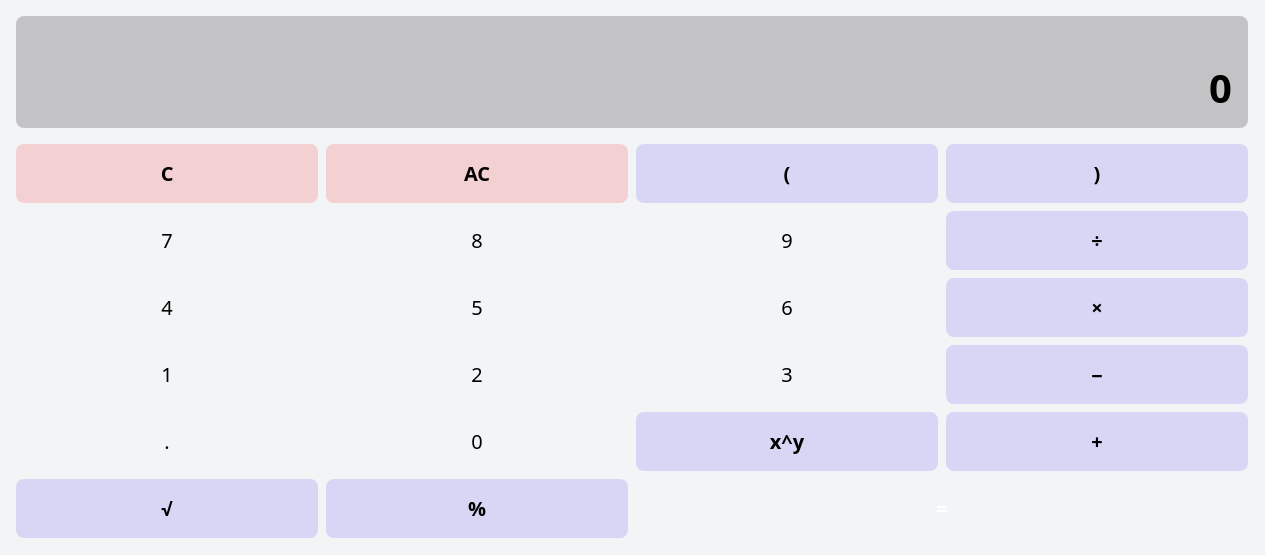
Test: Calculator UI & State › handles percentage button instantly
Click the button "5" at coordinates (477, 308), box [326,278,628,337]
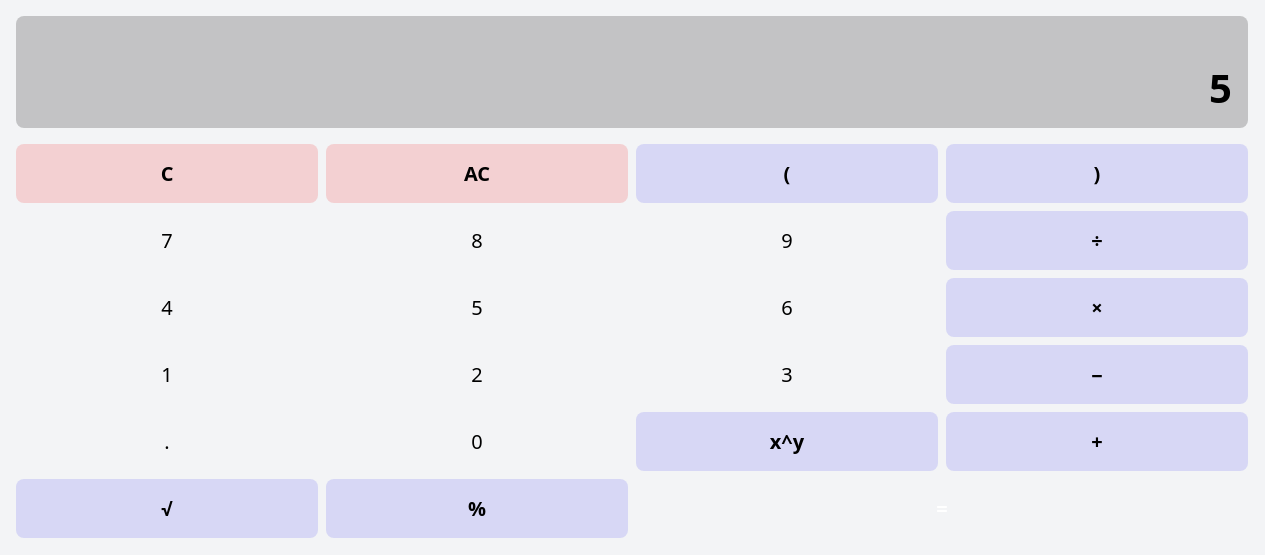
Click the button "0" at coordinates (477, 442), box [326,412,628,471]
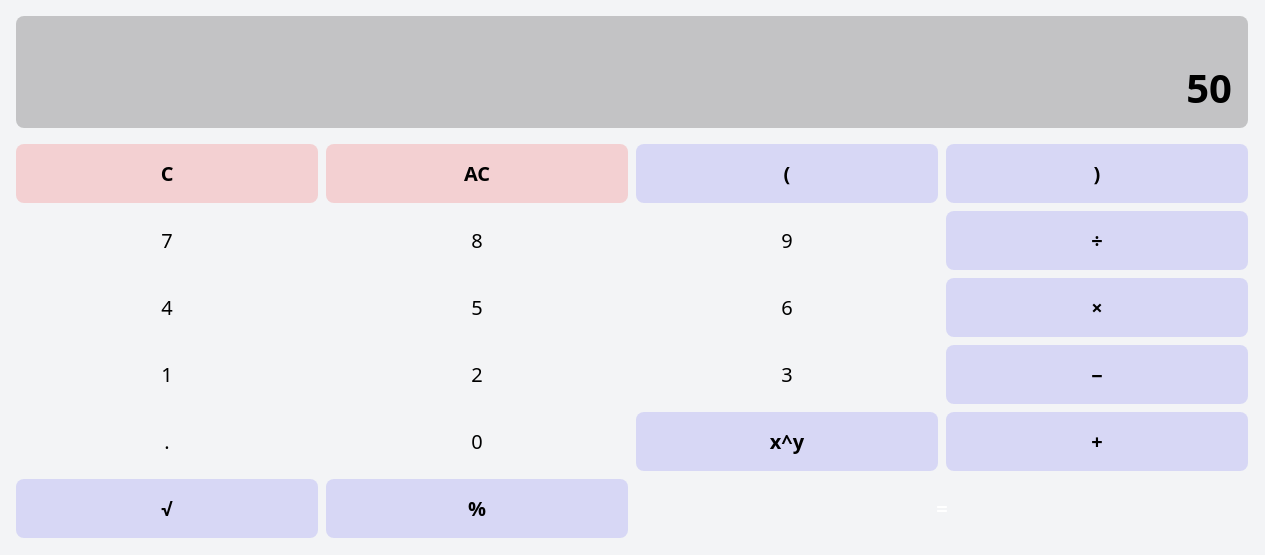
Click the button "%" at coordinates (477, 508), box [326,479,628,538]
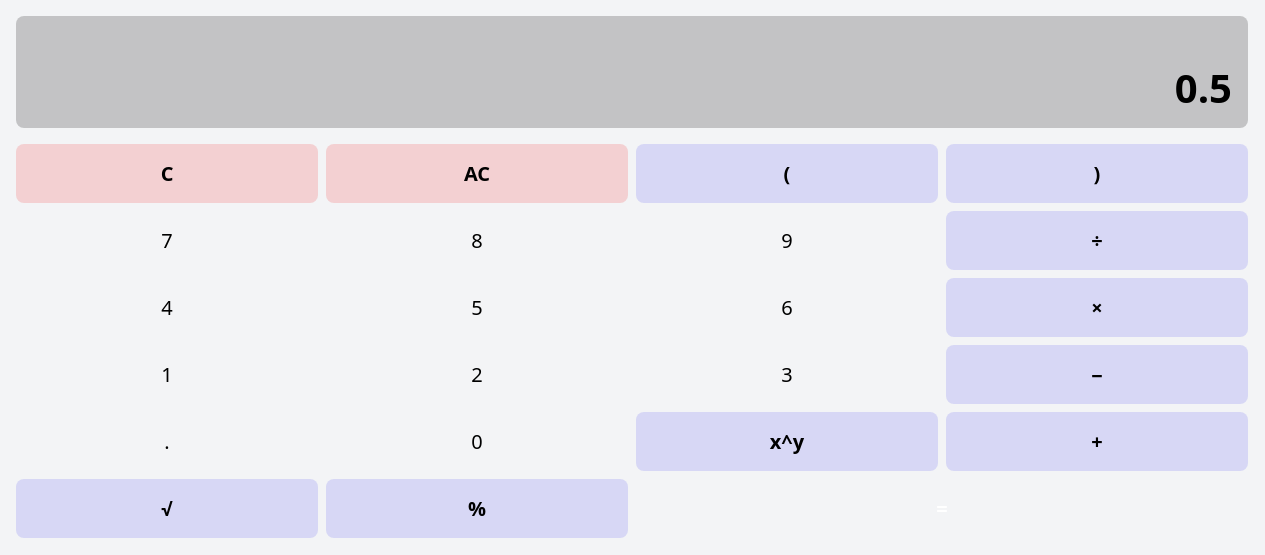
Result: the text "0.5" is shown at [1175,60,1232,115]
